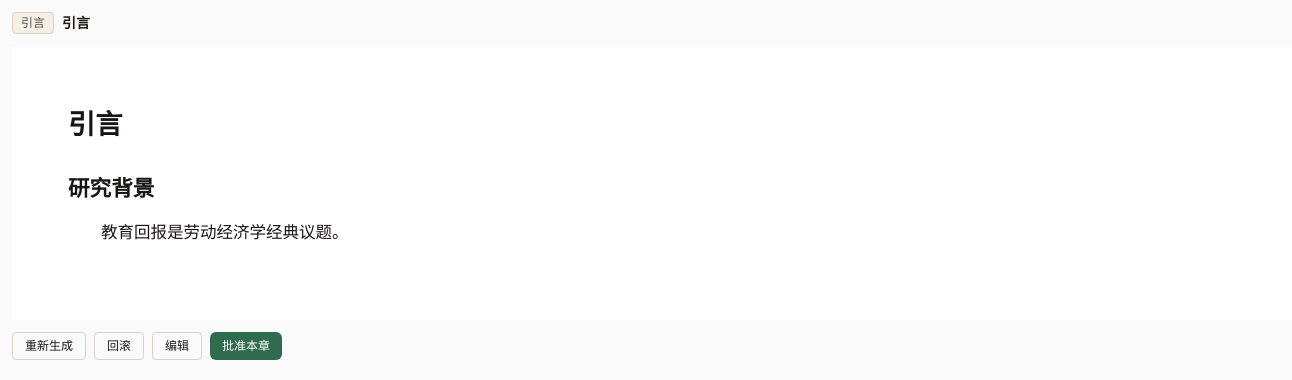
Test: ChapterWriter T-08c 扩展：4 按钮 + 回滚 + 编辑模式 › 编辑模式下点"保存"退出编辑模式（恢复"编辑"按钮）
This screenshot has width=1292, height=380.
Click the button "编辑" at (177, 346), box [152,332,202,360]
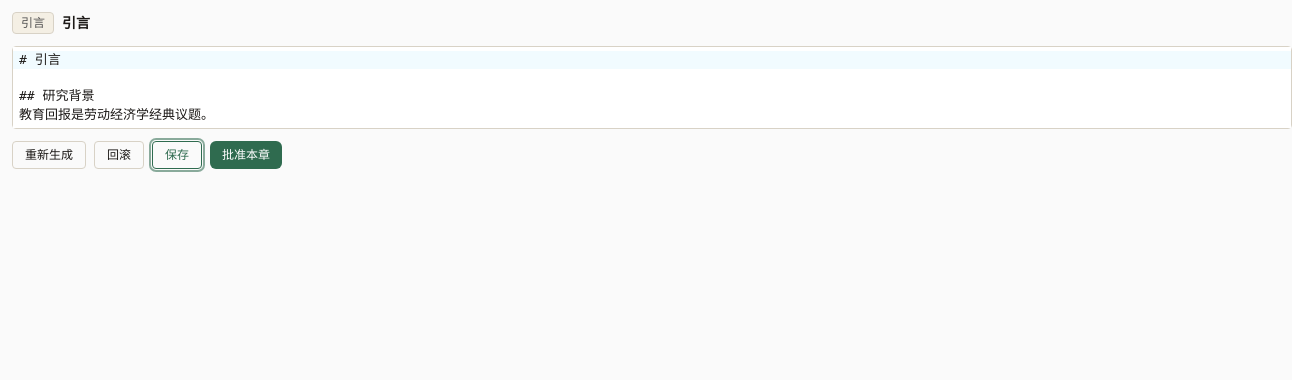
Now the button "保存" is shown
Click the button "保存" at (177, 155), box [152,141,202,169]
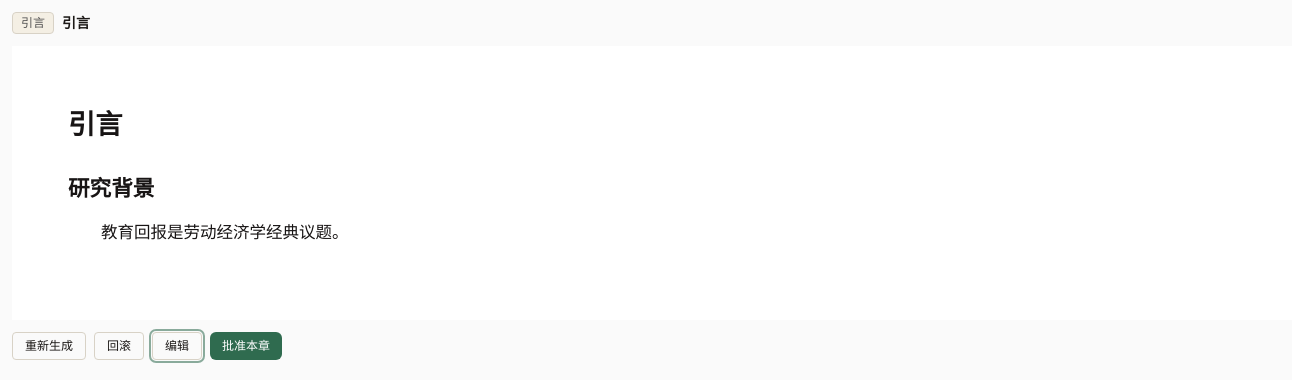
Now the button "编辑" is shown, box [152,332,202,360]
Now the button "保存" is gone
